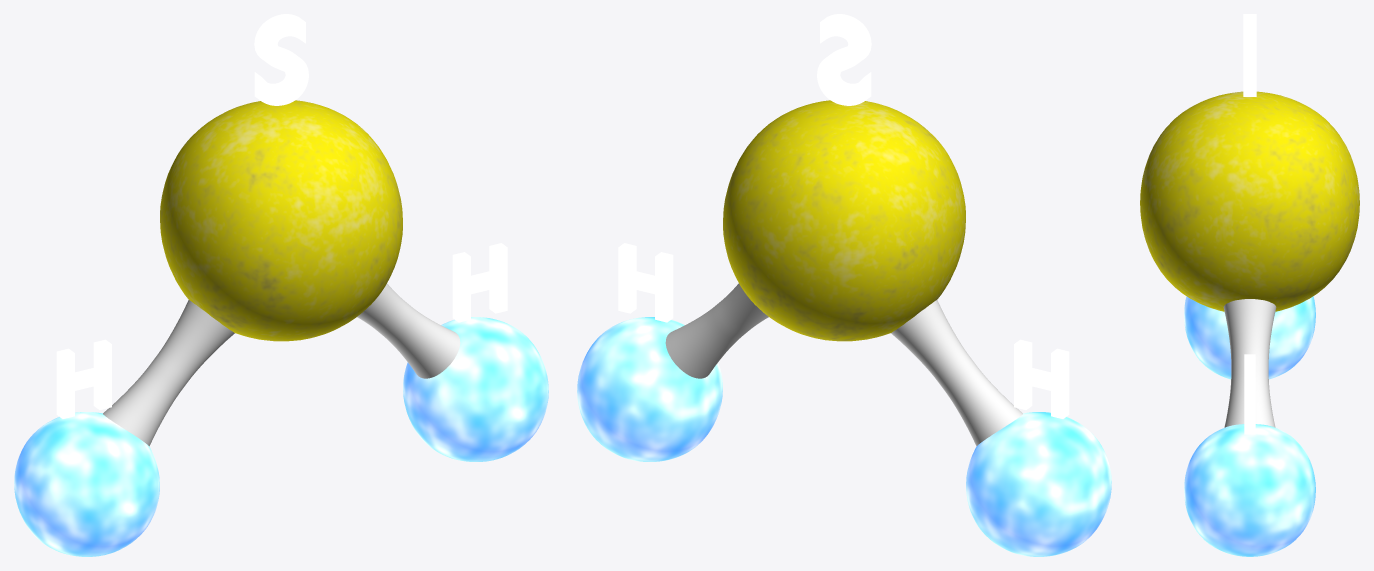
The picture shows the model from 3 angles, left to right: view 1: azimuth 30°, elevation 25°; view 2: azimuth 150°, elevation 25°; view 3: azimuth 270°, elevation 25°; orthographic projection. The views are drawn at different scales.
Visible parts, largest first — view 1: Text.002; view 2: Text.002; view 3: Text.002.
Boxes of the visible parts, x1,y1,x2,y2 form: Text.002: (14, 14, 548, 556); Text.002: (577, 14, 1111, 556); Text.002: (1140, 14, 1359, 556).
Size of the model in its own units: 5.01 by 4.52 by 2.02.
4 materials, 2 textured.
